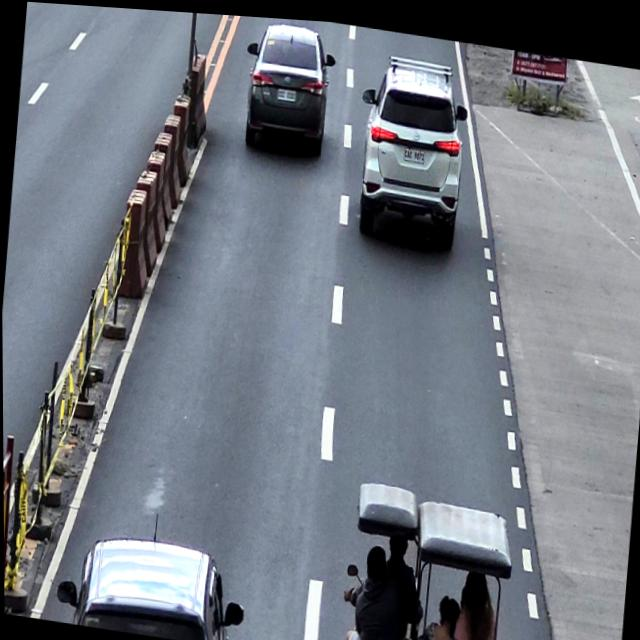Car: (349, 43, 473, 253), (51, 524, 250, 640), (239, 14, 340, 163)
License-Plate: (402, 140, 425, 160), (275, 83, 296, 99)
Tricycle: (336, 468, 518, 640)
